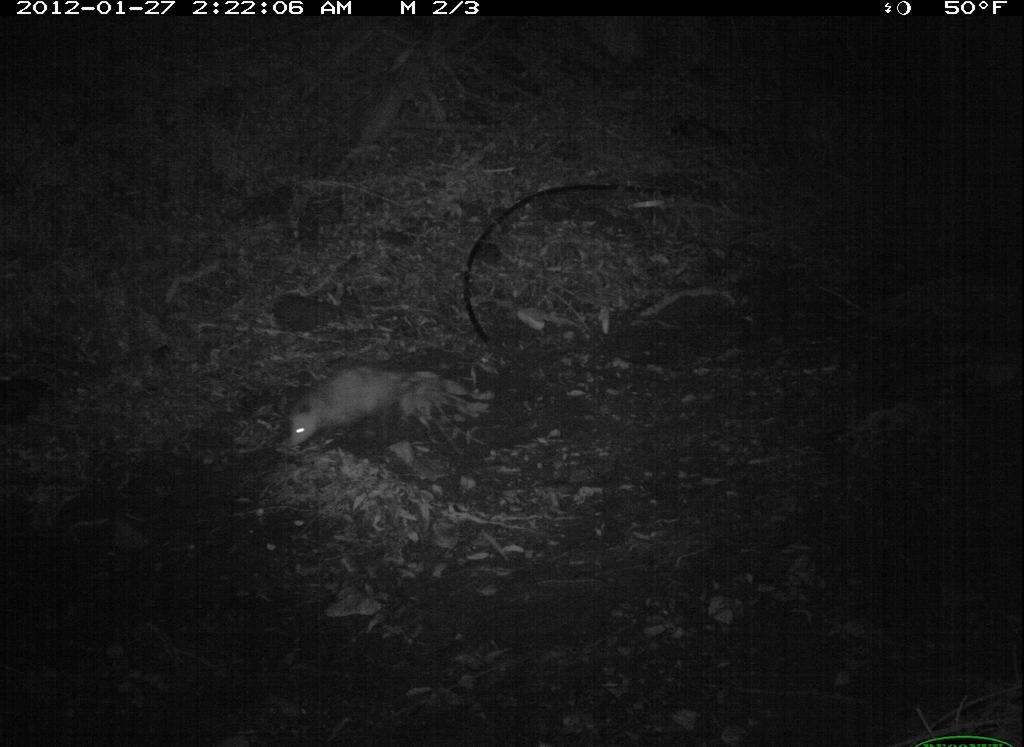opossum: (265, 361, 446, 455)
